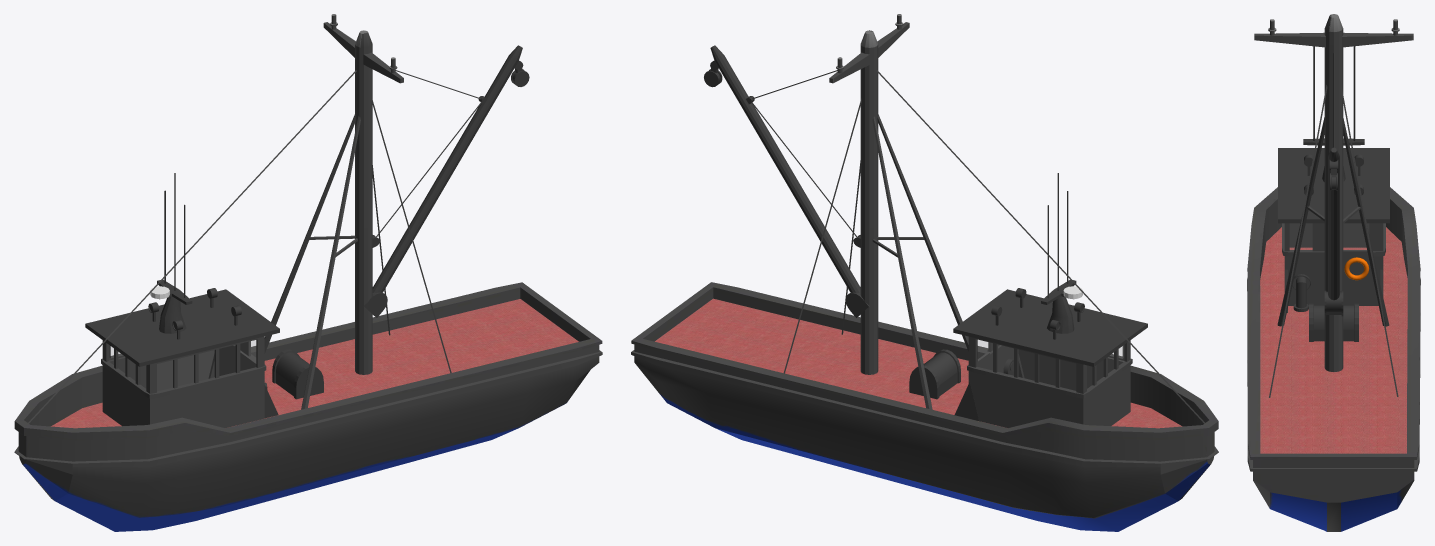
Rendered from trawler.glb.
3 renders of one model, left to right at view 1: azimuth 30°, elevation 25°; view 2: azimuth 150°, elevation 25°; view 3: azimuth 270°, elevation 25°, orthographic. The views are drawn at different scales.
Visible parts, largest first — view 1: hull, pCube32, pCube33, pCylinder5, pCylinder22, pCylinder20, pCylinder23, pCylinder21, pCube20, cables1; view 2: hull, pCube32, pCube33, pCylinder5, pCylinder22, pCylinder23, pCylinder21, pCylinder20, pCube20, cables1; view 3: hull, pCube33, pCube32, pCylinder5, pCube20, pCylinder22, pCylinder23, pCylinder20, pCylinder21, cables2, cables3, pCylinder29 (+4 smaller).
Boxes of the visible parts, x1,y1,x2,y2 form: hull: [14, 282, 602, 531]; pCube32: [101, 336, 266, 428]; pCube33: [85, 289, 279, 366]; pCylinder5: [355, 30, 372, 374]; pCylinder22: [372, 45, 522, 292]; pCylinder20: [301, 116, 360, 409]; pCylinder23: [272, 349, 323, 399]; pCylinder21: [264, 114, 355, 353]; pCube20: [323, 22, 403, 83]; cables1: [28, 70, 356, 423]; hull: [631, 282, 1218, 531]; pCube32: [967, 336, 1132, 427]; pCube33: [953, 289, 1147, 366]; pCylinder5: [860, 30, 878, 374]; pCylinder22: [710, 45, 860, 292]; pCylinder23: [909, 349, 960, 399]; pCylinder21: [872, 116, 932, 409]; pCylinder20: [877, 114, 968, 351]; pCube20: [829, 22, 909, 83]; cables1: [876, 70, 1204, 423]; hull: [1247, 187, 1420, 531]; pCube33: [1278, 148, 1389, 223]; pCube32: [1282, 223, 1385, 305]; pCylinder5: [1324, 14, 1343, 371]; pCube20: [1254, 32, 1413, 47]; pCylinder22: [1328, 147, 1339, 300]; pCylinder23: [1309, 303, 1358, 341]; pCylinder20: [1277, 117, 1324, 326]; pCylinder21: [1343, 118, 1389, 326]; cables2: [1269, 85, 1327, 397]; cables3: [1340, 85, 1398, 396]; pCylinder29: [1293, 276, 1308, 311].
Bounding box in the file's own units: 19.03 × 14.87 × 5.07.
Materials: 7 (2 with a texture image).
